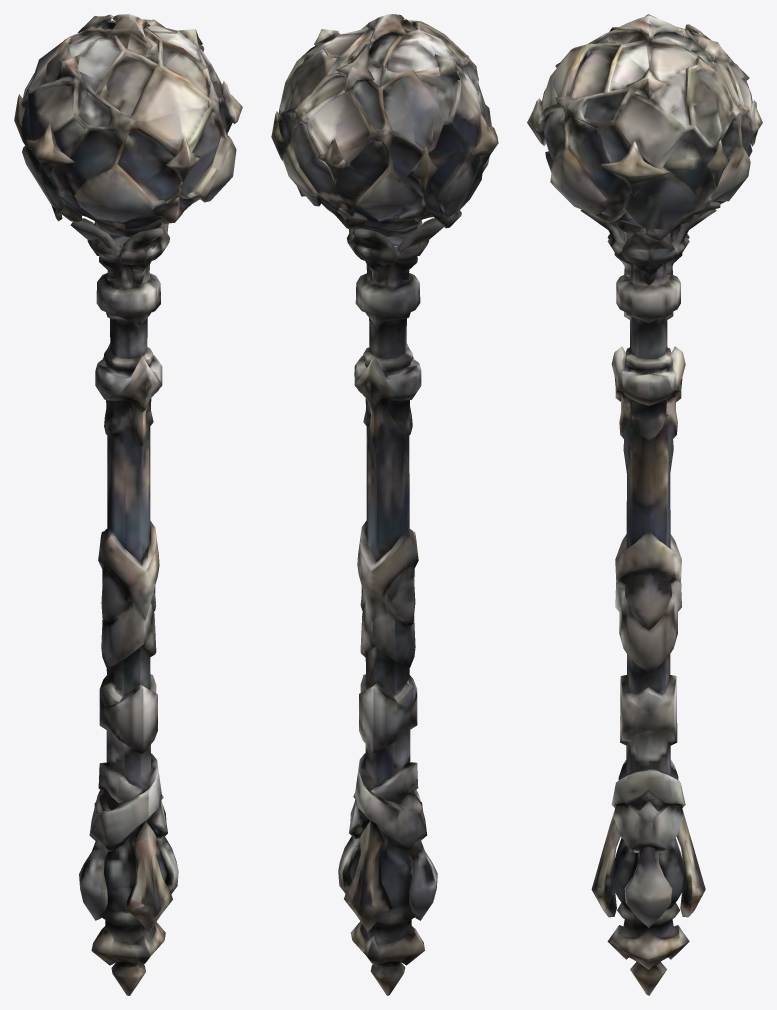
The model's file is mace_moon.glb.
3 views of the same model, side by side, from view 1: azimuth 30°, elevation 25°; view 2: azimuth 150°, elevation 25°; view 3: azimuth 270°, elevation 25° (orthographic).
Parts seen in each view (by area): view 1: i_01; view 2: i_01; view 3: i_01.
Boxes of the visible parts, x1=… form: i_01: x1=14, y1=14, x2=242, y2=995; i_01: x1=271, y1=14, x2=498, y2=995; i_01: x1=527, y1=14, x2=762, y2=995.
Bounding box in the file's own units: 0.1958 × 0.8928 × 0.1946.
1 material, 1 textured.
